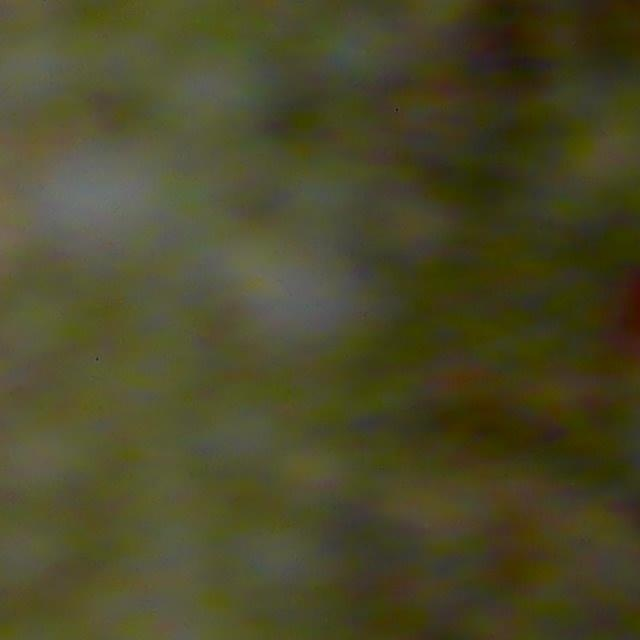SeaGrape: (224, 221, 367, 367), (171, 28, 296, 157), (0, 268, 123, 381), (64, 167, 185, 268), (256, 430, 368, 530), (0, 509, 110, 601), (310, 0, 410, 92), (235, 513, 327, 601)
